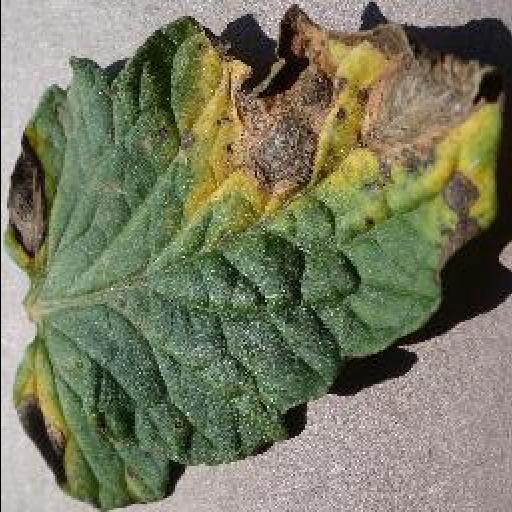disease_tomato: (0, 12, 512, 510)
